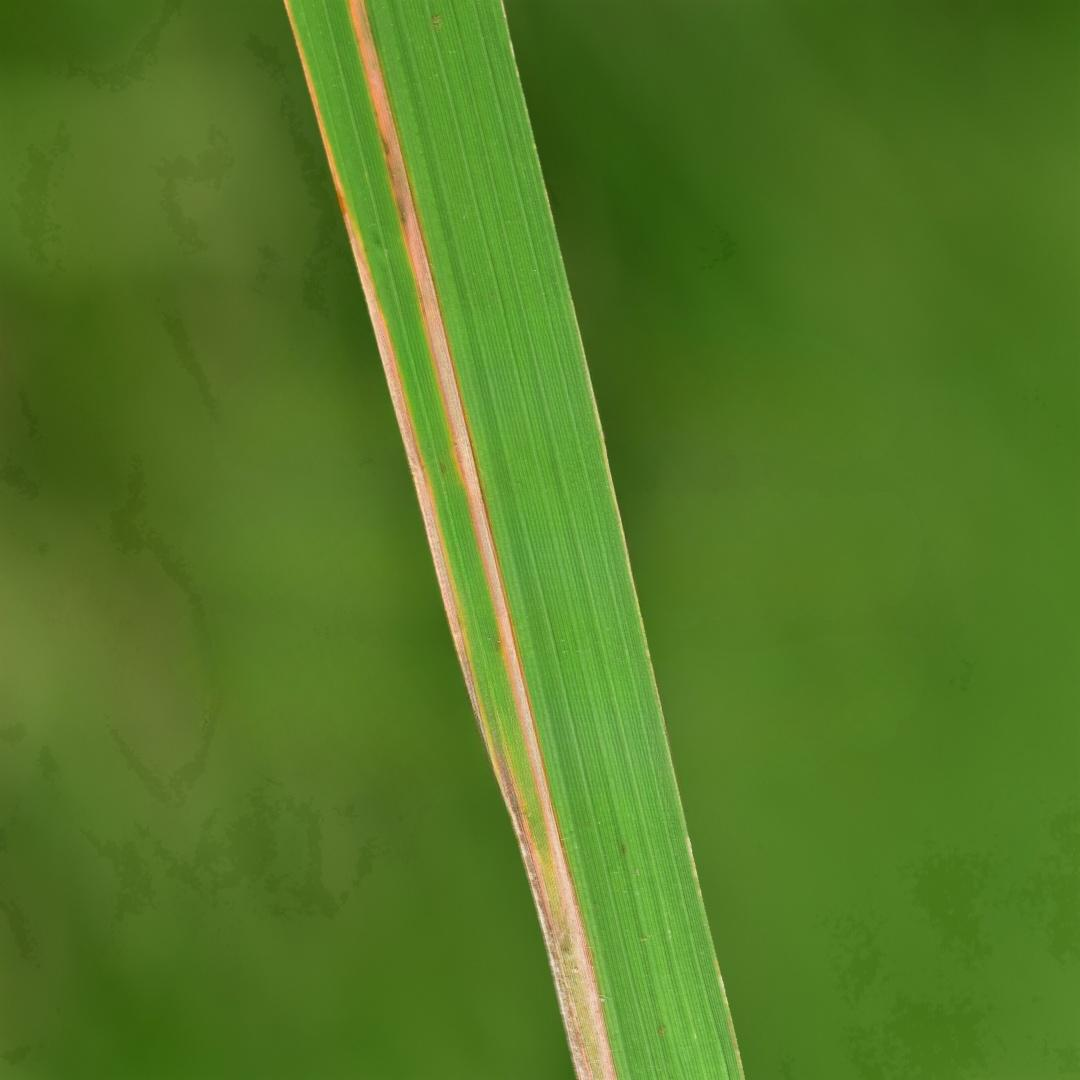BLB: (285, 0, 619, 1078)
LEAF: (286, 0, 743, 1079)
